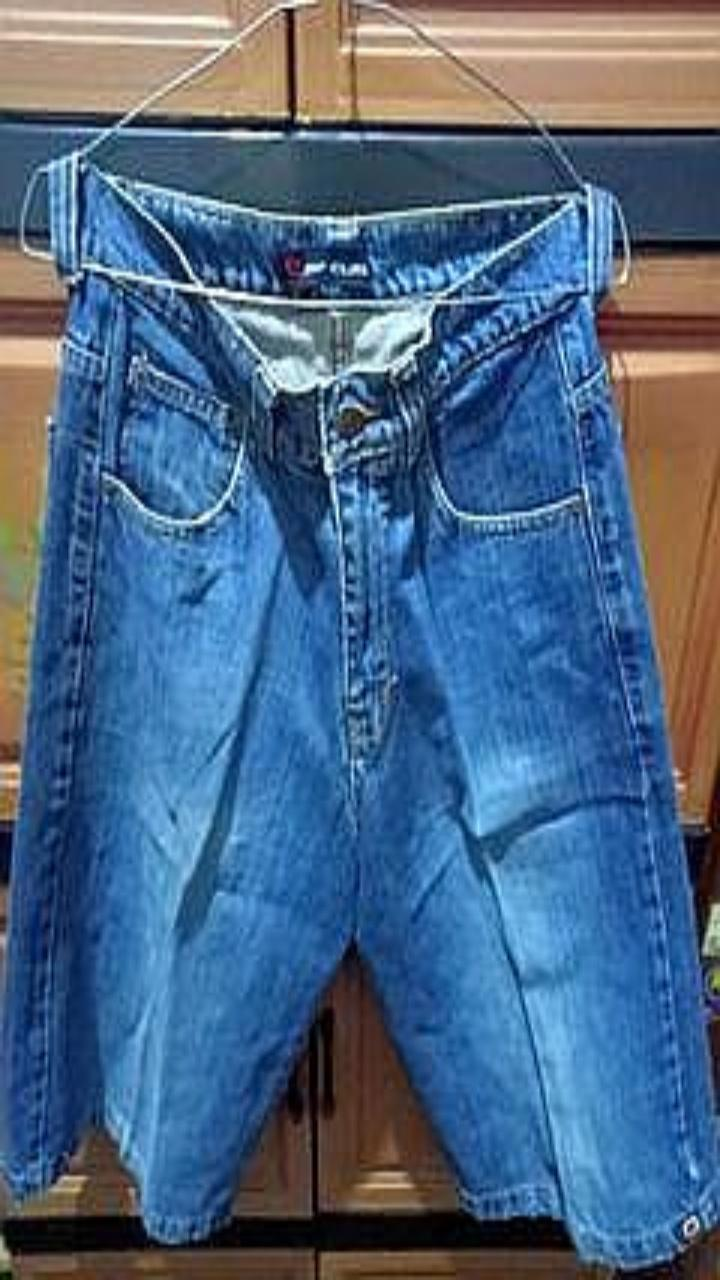Shorts: (0, 154, 719, 1267)
